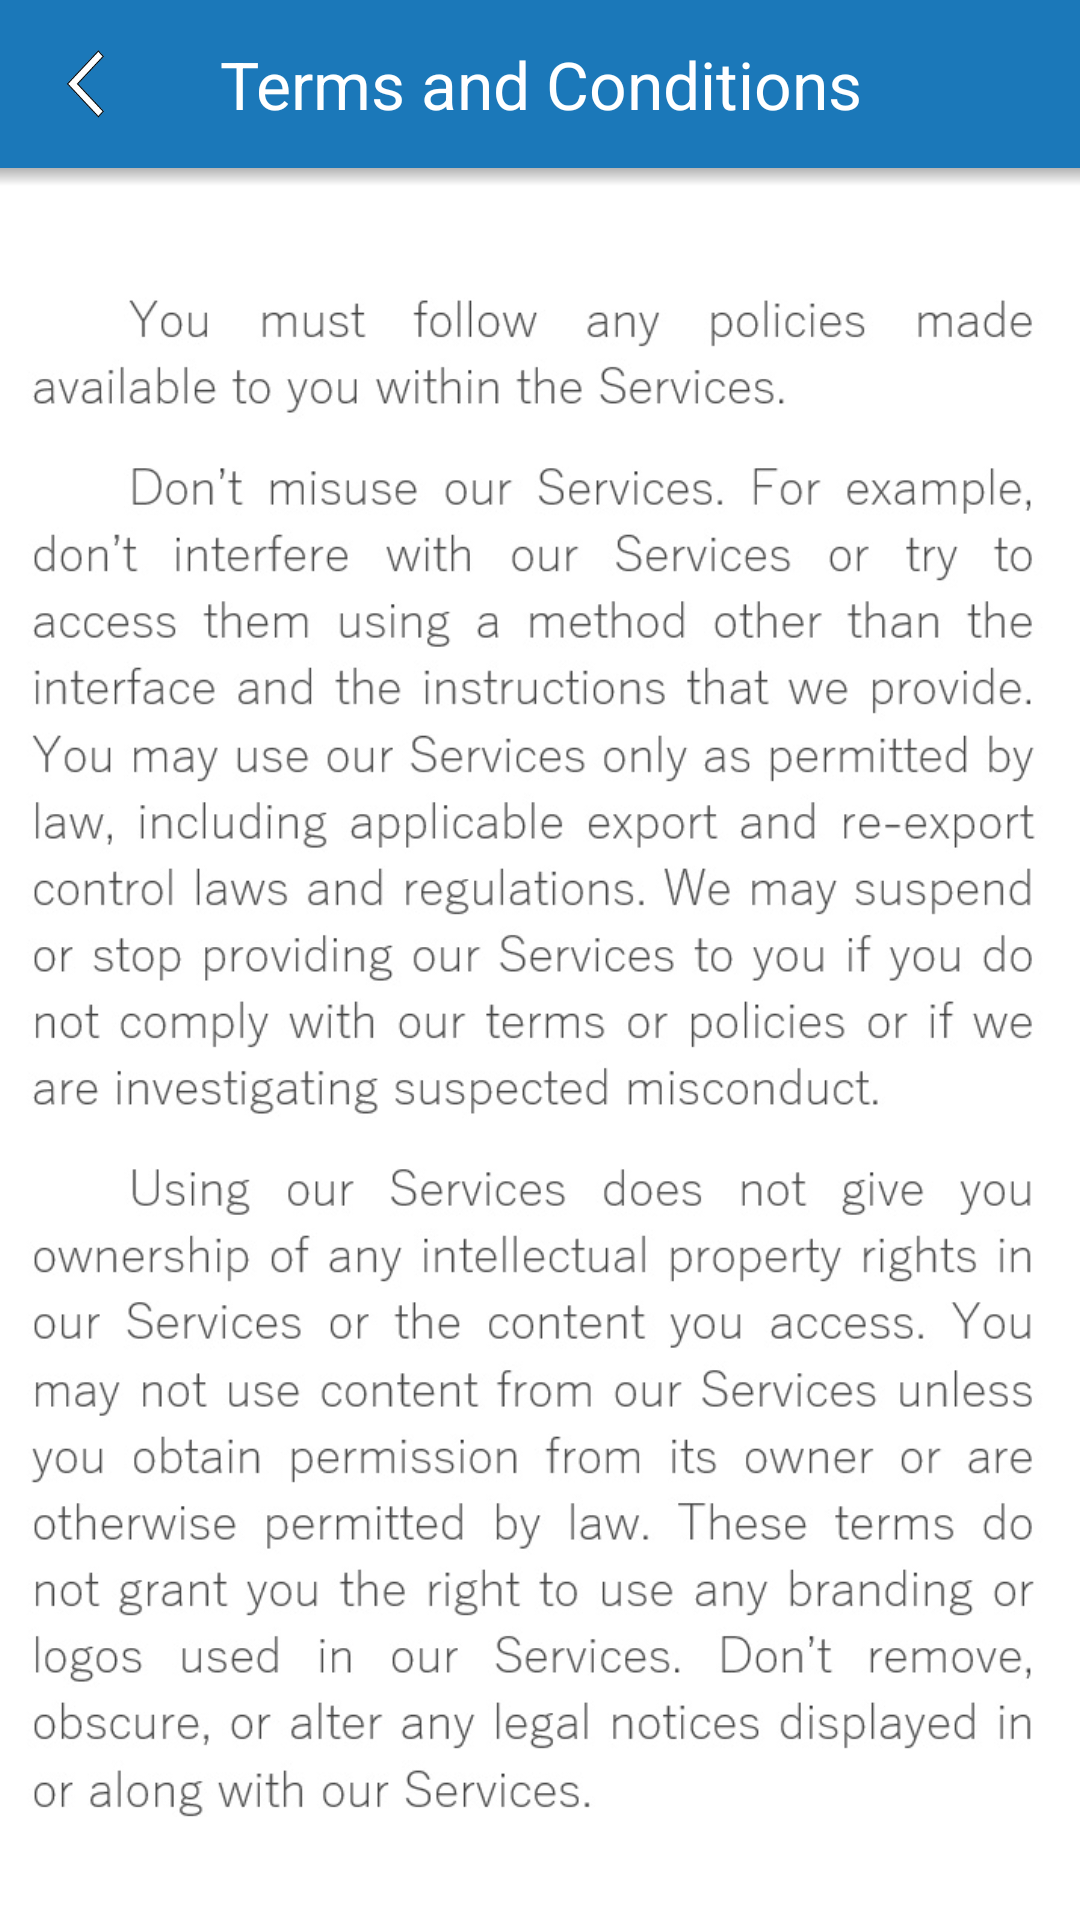

Icon click points for this 1080*1920 phone screenshot, format (x=x, y=y):
back: (x=85, y=84)
